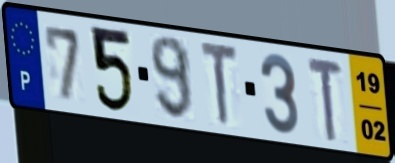3: (258, 50, 301, 137)
5: (87, 24, 138, 116)
7: (42, 24, 84, 102)
9: (148, 33, 194, 125)
T: (304, 54, 346, 145), (198, 39, 240, 130)
